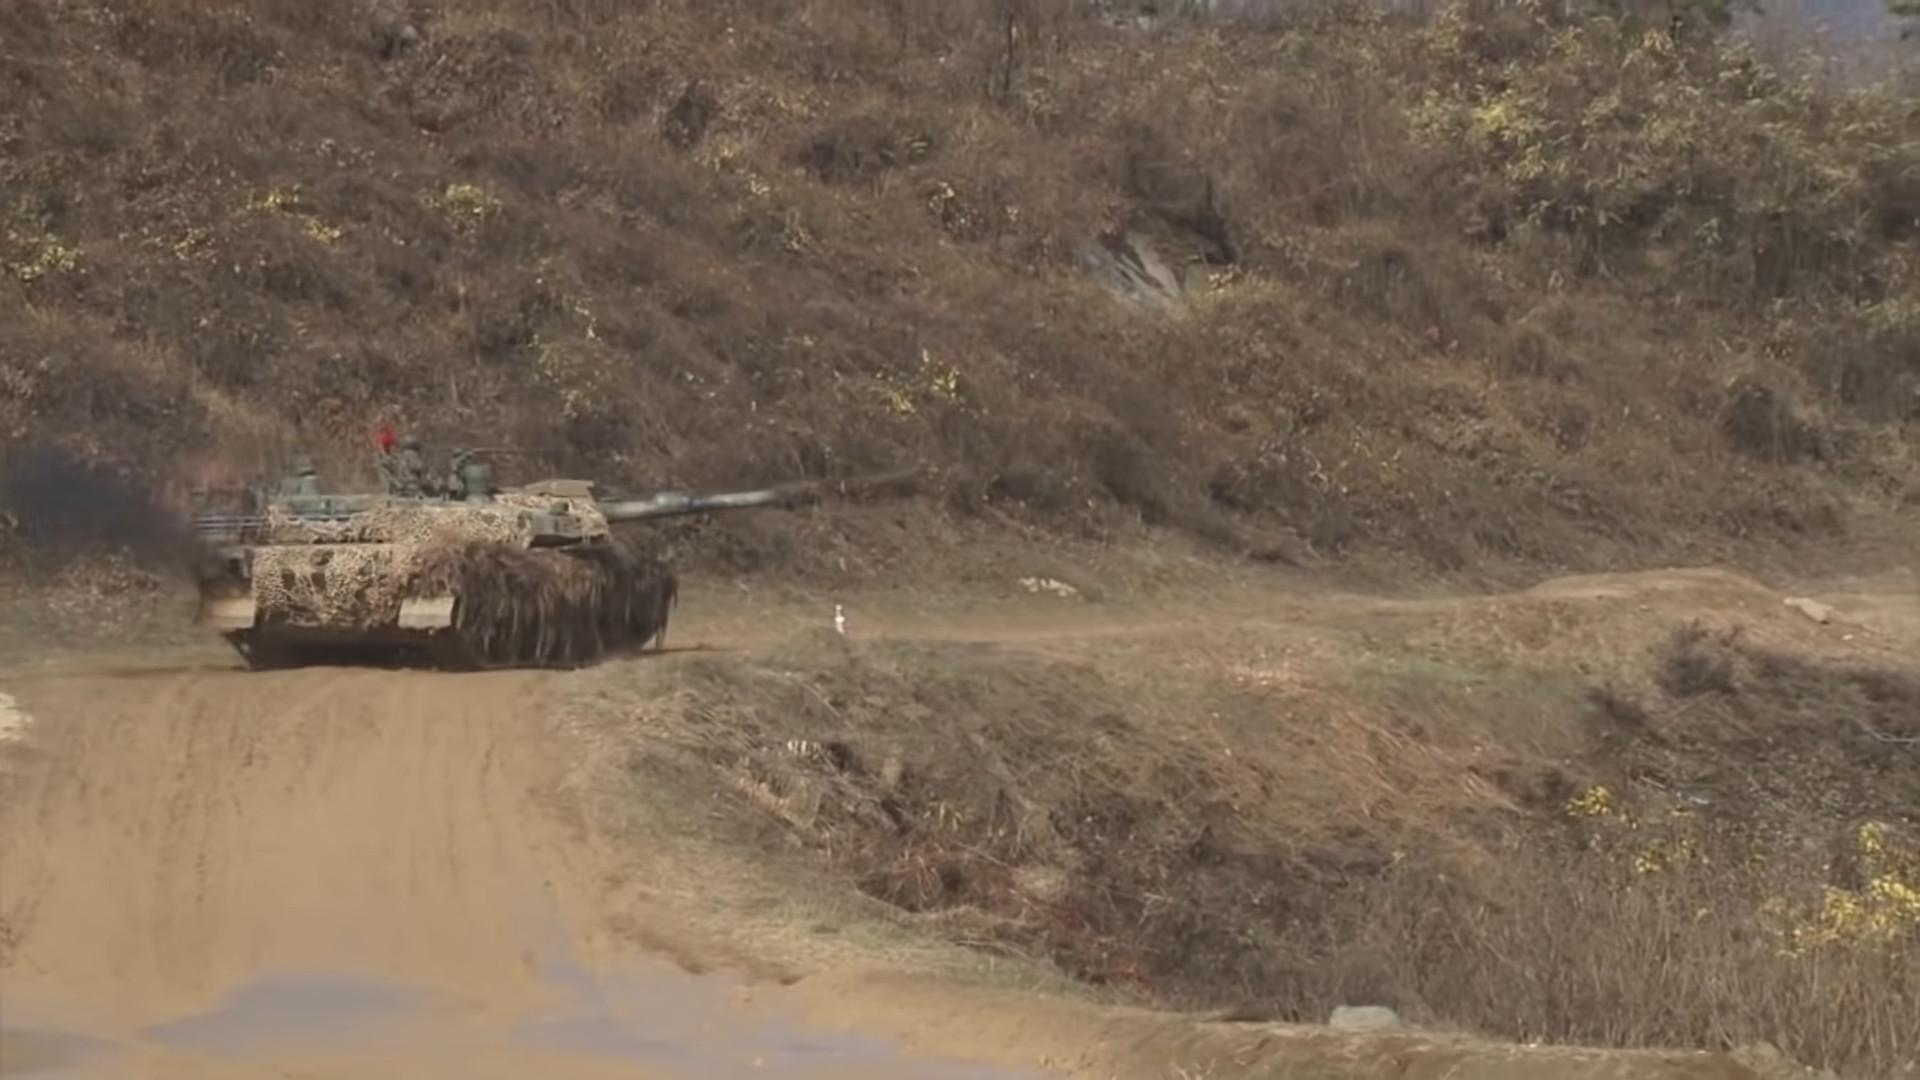tank: (183, 455, 914, 674)
